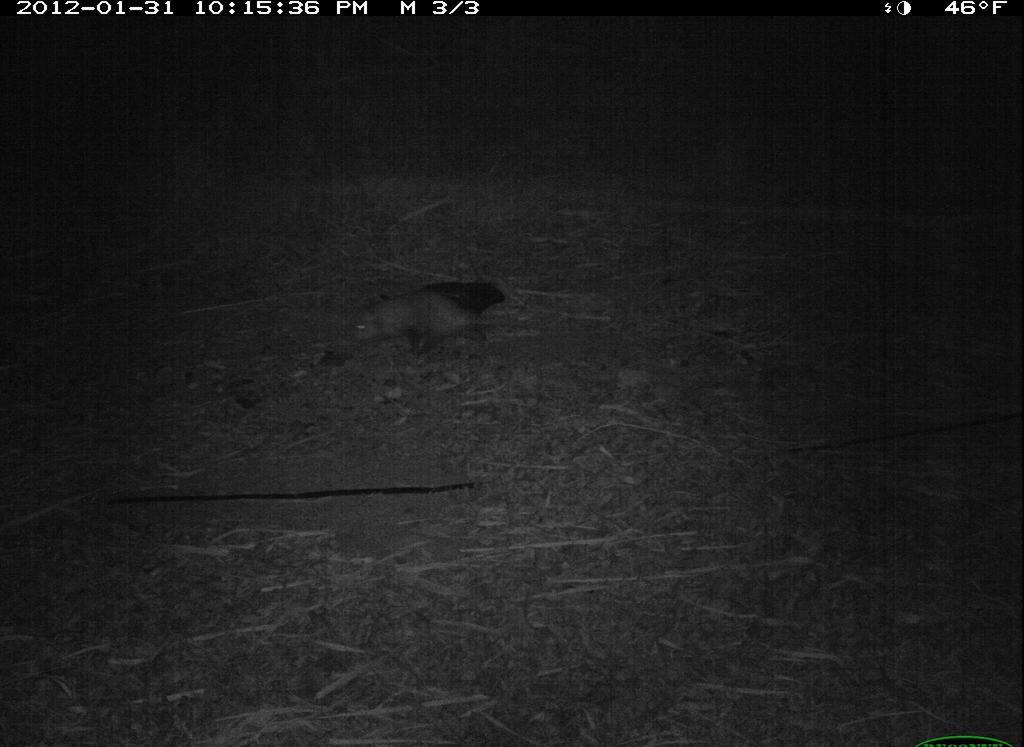opossum: (345, 278, 536, 363)
